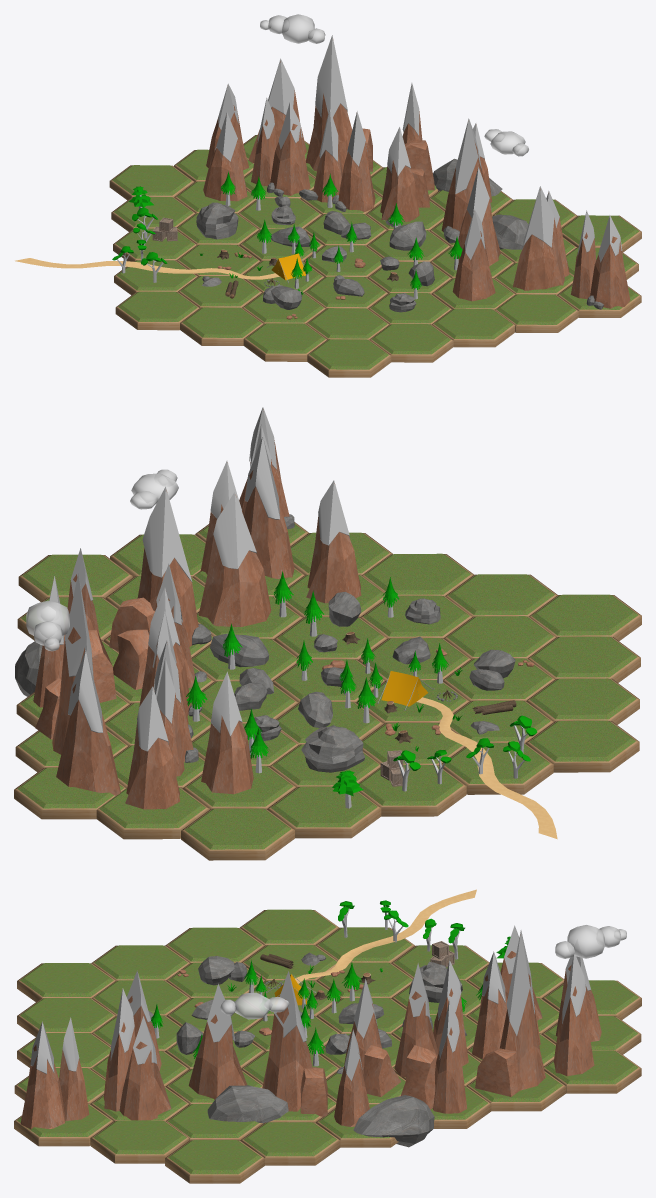
File: 3dscene.fbx
3 views of the same model, one above another, from view 1: azimuth 30°, elevation 25°; view 2: azimuth 150°, elevation 25°; view 3: azimuth 270°, elevation 25° (orthographic). The views are drawn at different scales.
Visible parts, largest first — view 1: ground41, ground4, ground9, ground40, ground37, ground39, ground32, mountain17, ground42, ground38, mountain19, mountain7 (+61 smaller); view 2: ground42, ground4, ground18, mountain14, ground9, ground40, ground41, ground36, mountain12, ground39, ground37, ground28 (+67 smaller); view 3: ground43, ground34, ground44, mountain1, rock37, ground41, ground4, ground39, mountain14, ground40, ground9, ground29 (+75 smaller).
Part boxes in pixels (bbox=[...]): ground41: bbox=[307, 339, 391, 377]; ground4: bbox=[115, 291, 199, 330]; ground9: bbox=[180, 307, 263, 345]; ground40: bbox=[243, 323, 327, 361]; ground37: bbox=[432, 308, 515, 347]; ground39: bbox=[369, 324, 453, 362]; ground32: bbox=[495, 294, 578, 332]; mountain17: bbox=[513, 188, 564, 290]; ground42: bbox=[109, 165, 194, 200]; ground38: bbox=[306, 308, 389, 339]; mountain19: bbox=[590, 236, 630, 308]; mountain7: bbox=[270, 123, 310, 195]; ground42: bbox=[181, 808, 294, 860]; ground4: bbox=[526, 720, 639, 772]; ground18: bbox=[267, 786, 381, 838]; mountain14: bbox=[198, 494, 271, 626]; ground9: bbox=[526, 678, 639, 724]; ground40: bbox=[528, 636, 640, 682]; ground41: bbox=[529, 594, 641, 641]; ground36: bbox=[358, 765, 466, 816]; mountain12: bbox=[56, 684, 120, 795]; ground39: bbox=[445, 574, 557, 616]; ground37: bbox=[362, 553, 473, 595]; ground28: bbox=[96, 787, 209, 839]; ground43: bbox=[165, 1140, 264, 1183]; ground34: bbox=[90, 1120, 188, 1163]; ground44: bbox=[240, 1122, 340, 1165]; mountain1: bbox=[262, 999, 312, 1111]; rock37: bbox=[353, 1095, 434, 1147]; ground41: bbox=[17, 963, 115, 1001]; ground4: bbox=[240, 909, 339, 945]; ground39: bbox=[17, 998, 115, 1036]; mountain14: bbox=[188, 1014, 246, 1099]; ground40: bbox=[91, 945, 189, 980]; ground9: bbox=[165, 927, 264, 962]; ground29: bbox=[543, 1050, 641, 1093].
Size of the model in its own units: 33.03 by 10.51 by 30.93.
